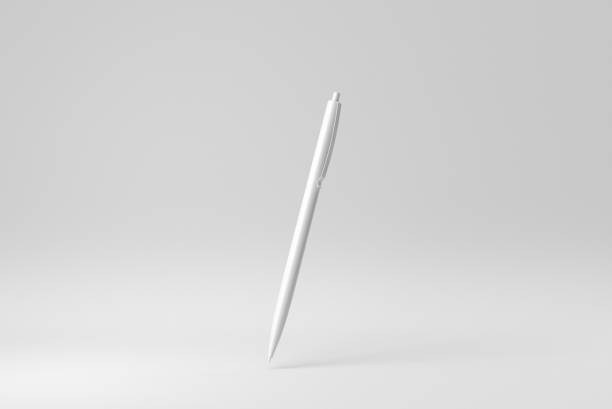pen: (256, 86, 361, 371)
